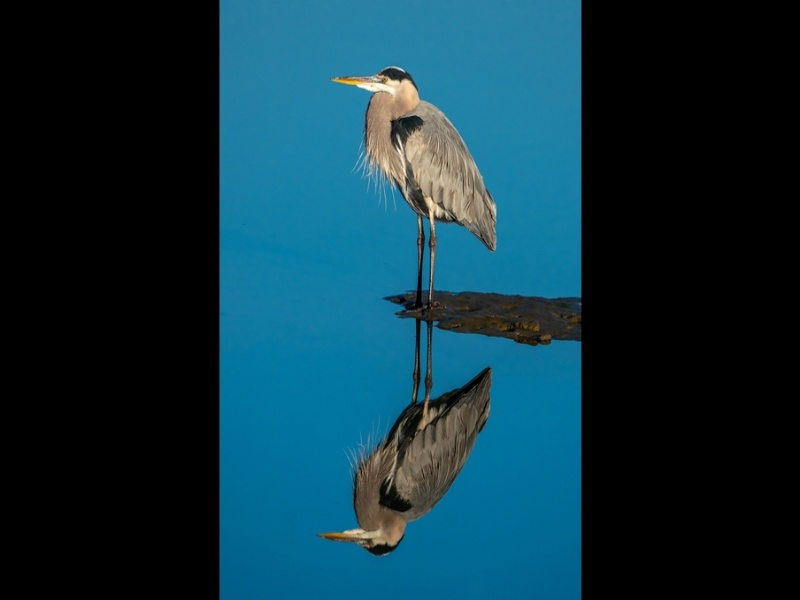heron: (315, 312, 507, 558), (329, 61, 511, 315)
